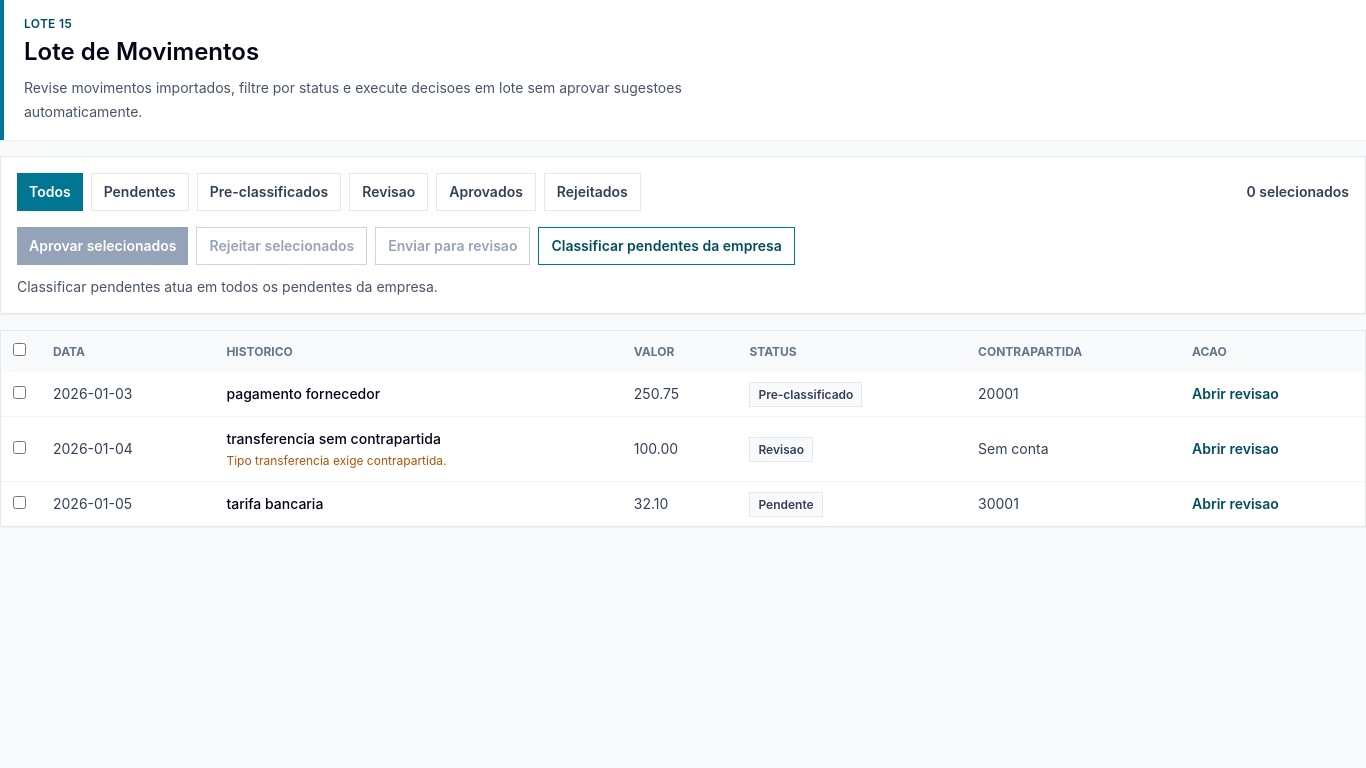
Test: LoteMovimentosPage › rejeita selecionados e exibe falha parcial
Click the checkbox named "Selecionar movimento 91". click: (20, 392)
box: [13,386,26,399]
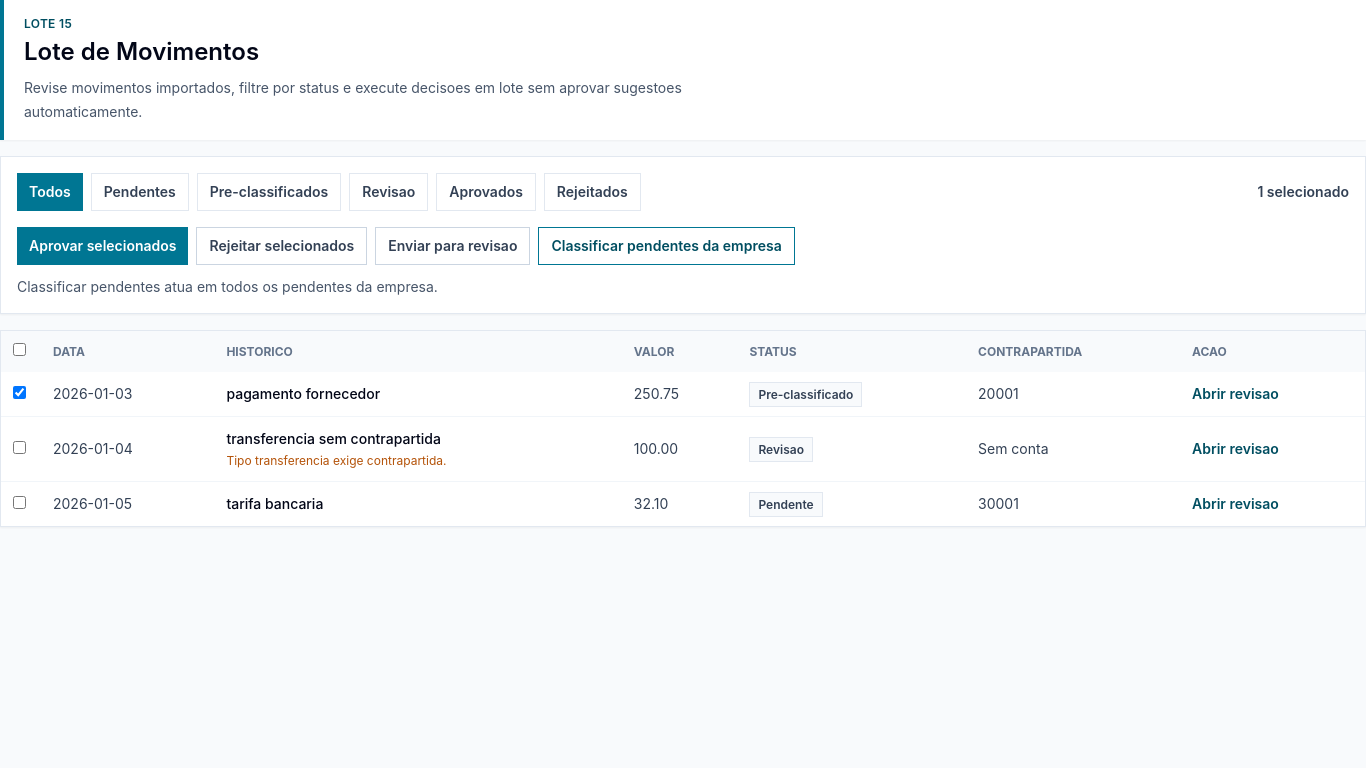
Click the checkbox named "Selecionar movimento 92". click: (20, 448)
box: [13,441,26,454]
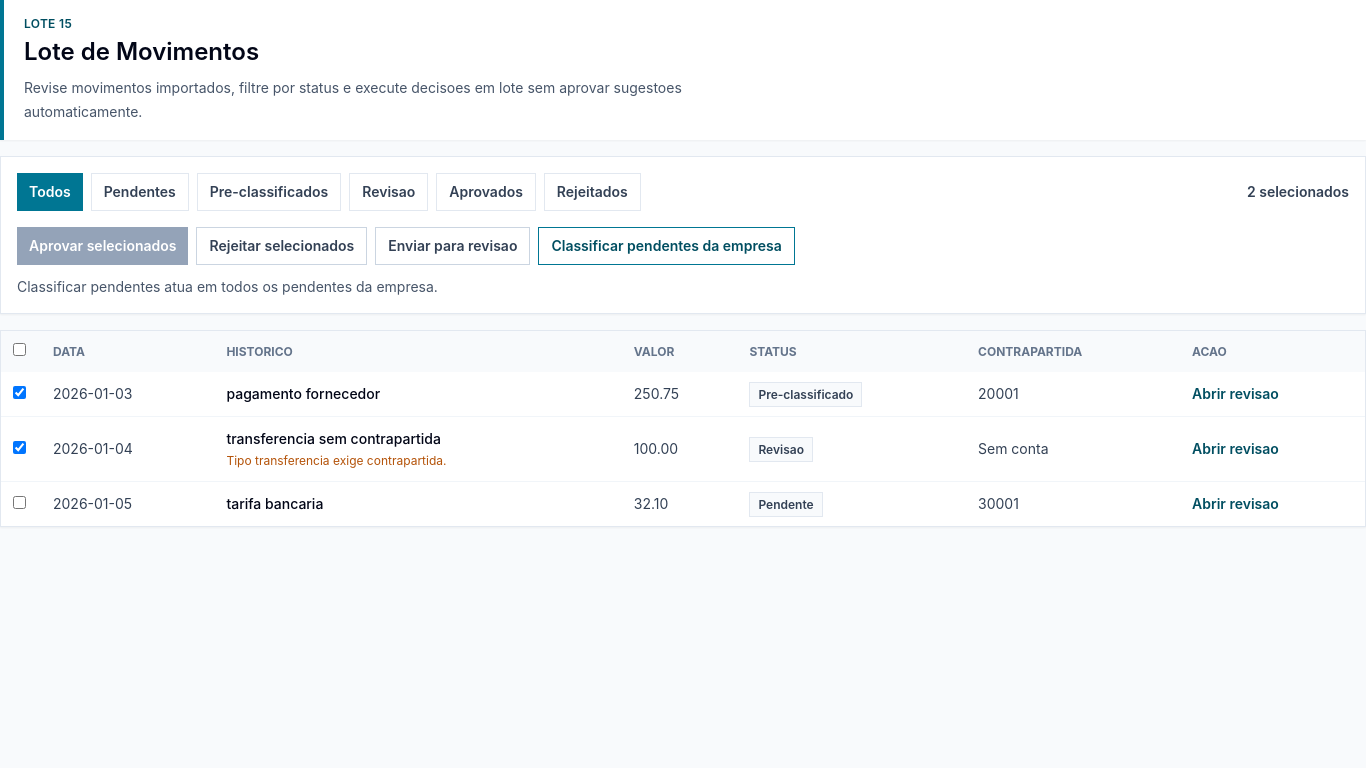
Click the button "Rejeitar selecionados". click: (282, 246)
box: [196,227,367,265]
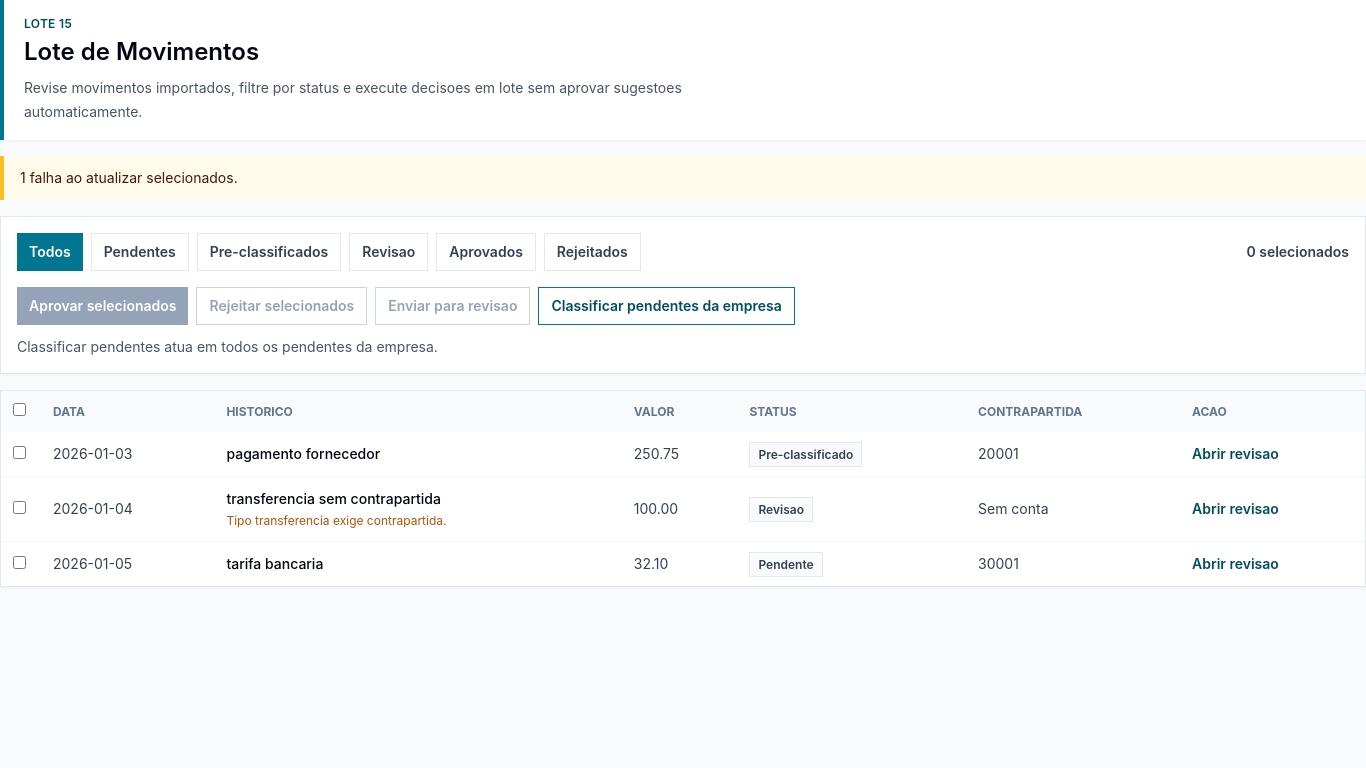
Expected: the message reads "1 falha ao atualizar selecionados.", [20,169,238,186]
